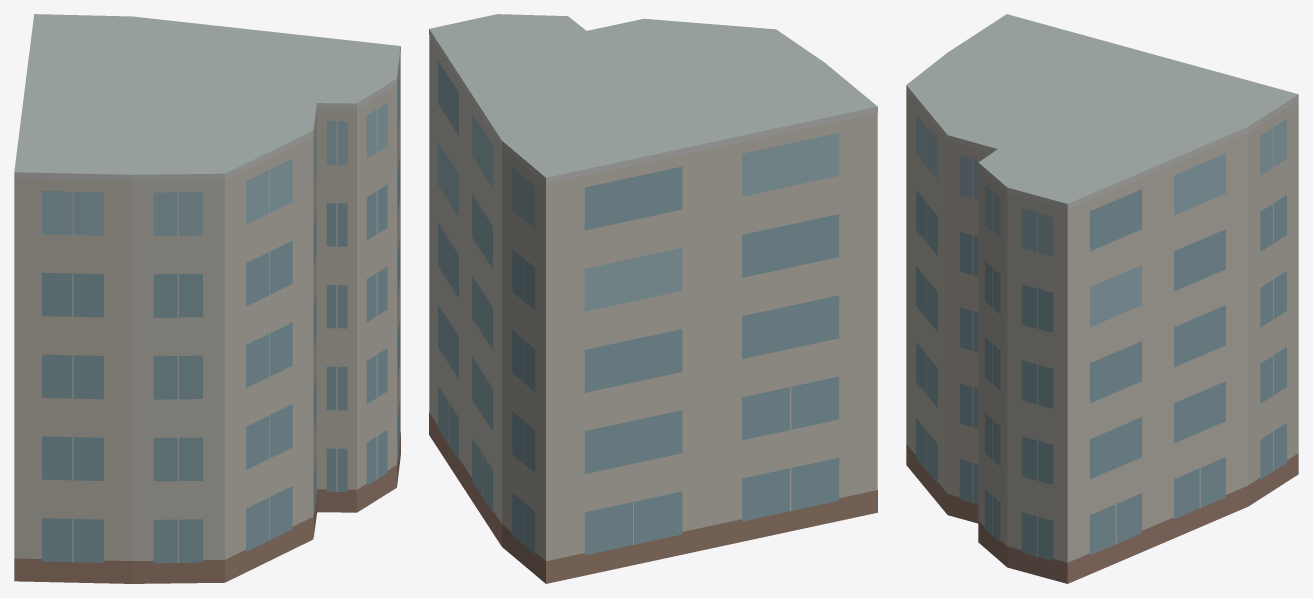
Rendered from survey-upis-32630953.glb.
3 views of the same model, side by side, from view 1: azimuth 30°, elevation 25°; view 2: azimuth 150°, elevation 25°; view 3: azimuth 270°, elevation 25° (orthographic). The views are drawn at different scales.
Parts seen in each view (by area): view 1: survey-upis-32630953.tmp; view 2: survey-upis-32630953.tmp; view 3: survey-upis-32630953.tmp.
Part boxes in pixels (x1,y1,x2,y2): survey-upis-32630953.tmp: [14, 14, 400, 583]; survey-upis-32630953.tmp: [429, 14, 877, 583]; survey-upis-32630953.tmp: [906, 14, 1298, 583].
Bounding box in the file's own units: 17.38 × 16.2 × 15.17.
